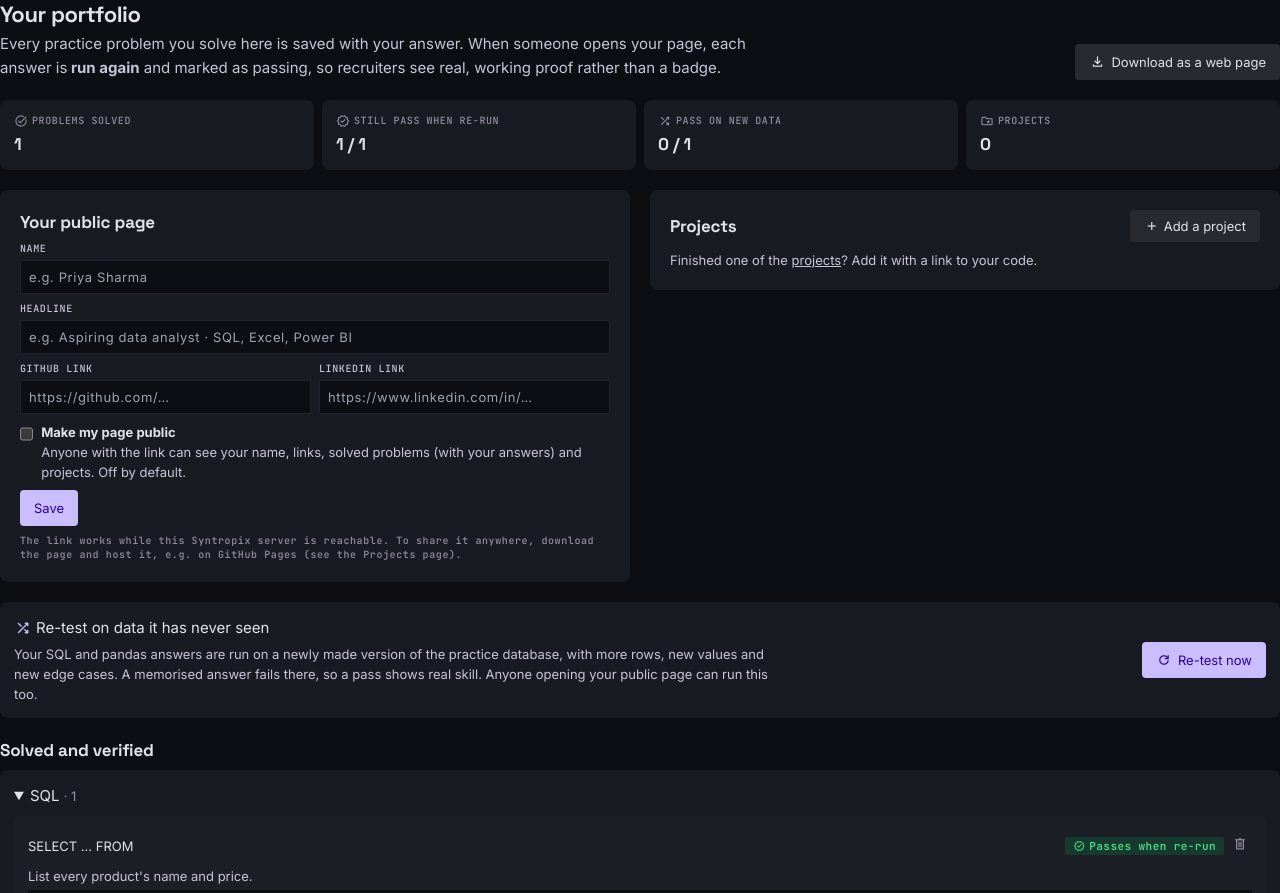
portfolio fresh-data re-test › re-tests saved answers on new data and shows the badge
The width and height of the screenshot is (1280, 893).
Expected: the text "0 / 1" is shown, [658,133,691,155]
Click the button "Re-test now": (1204, 660) [1142,642,1266,678]
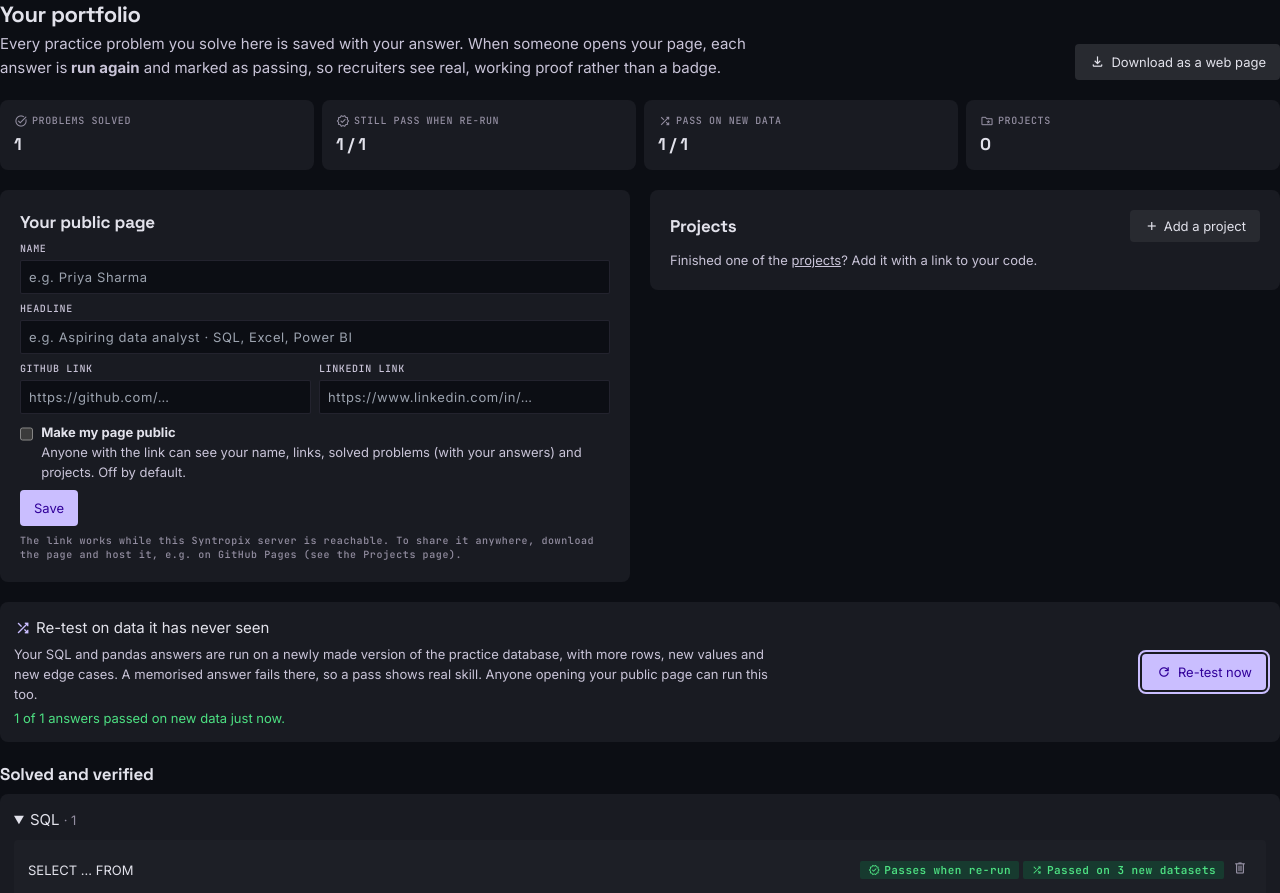
Expected: the text "1 of 1 answers passed on new data just now." is shown, [14,710,285,726]
Expected: the text "Passed on 3 new datasets" is shown, [1023,861,1224,879]
